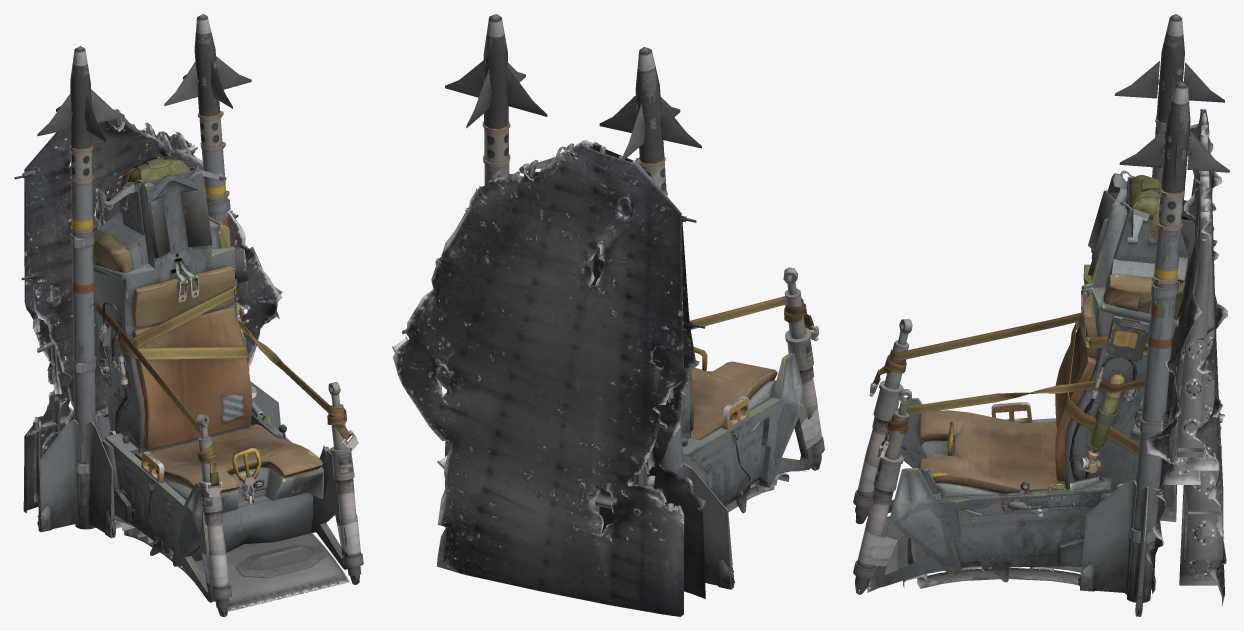
File: chair.ejectorseat.glb
3 renders of one model, left to right at view 1: azimuth 30°, elevation 25°; view 2: azimuth 150°, elevation 25°; view 3: azimuth 270°, elevation 25°, orthographic. The views are drawn at different scales.
Visible parts, largest first — view 1: pilot_ejector_seat_chair_LOD0; view 2: pilot_ejector_seat_chair_LOD0; view 3: pilot_ejector_seat_chair_LOD0.
Boxes of the visible parts, box(x1,y1,x2,y2) form: pilot_ejector_seat_chair_LOD0: box(14, 14, 363, 616); pilot_ejector_seat_chair_LOD0: box(392, 14, 824, 616); pilot_ejector_seat_chair_LOD0: box(853, 14, 1229, 616).
Size of the model in its own units: 1.24 by 2.11 by 1.4.
Materials: 2 (2 with a texture image).
